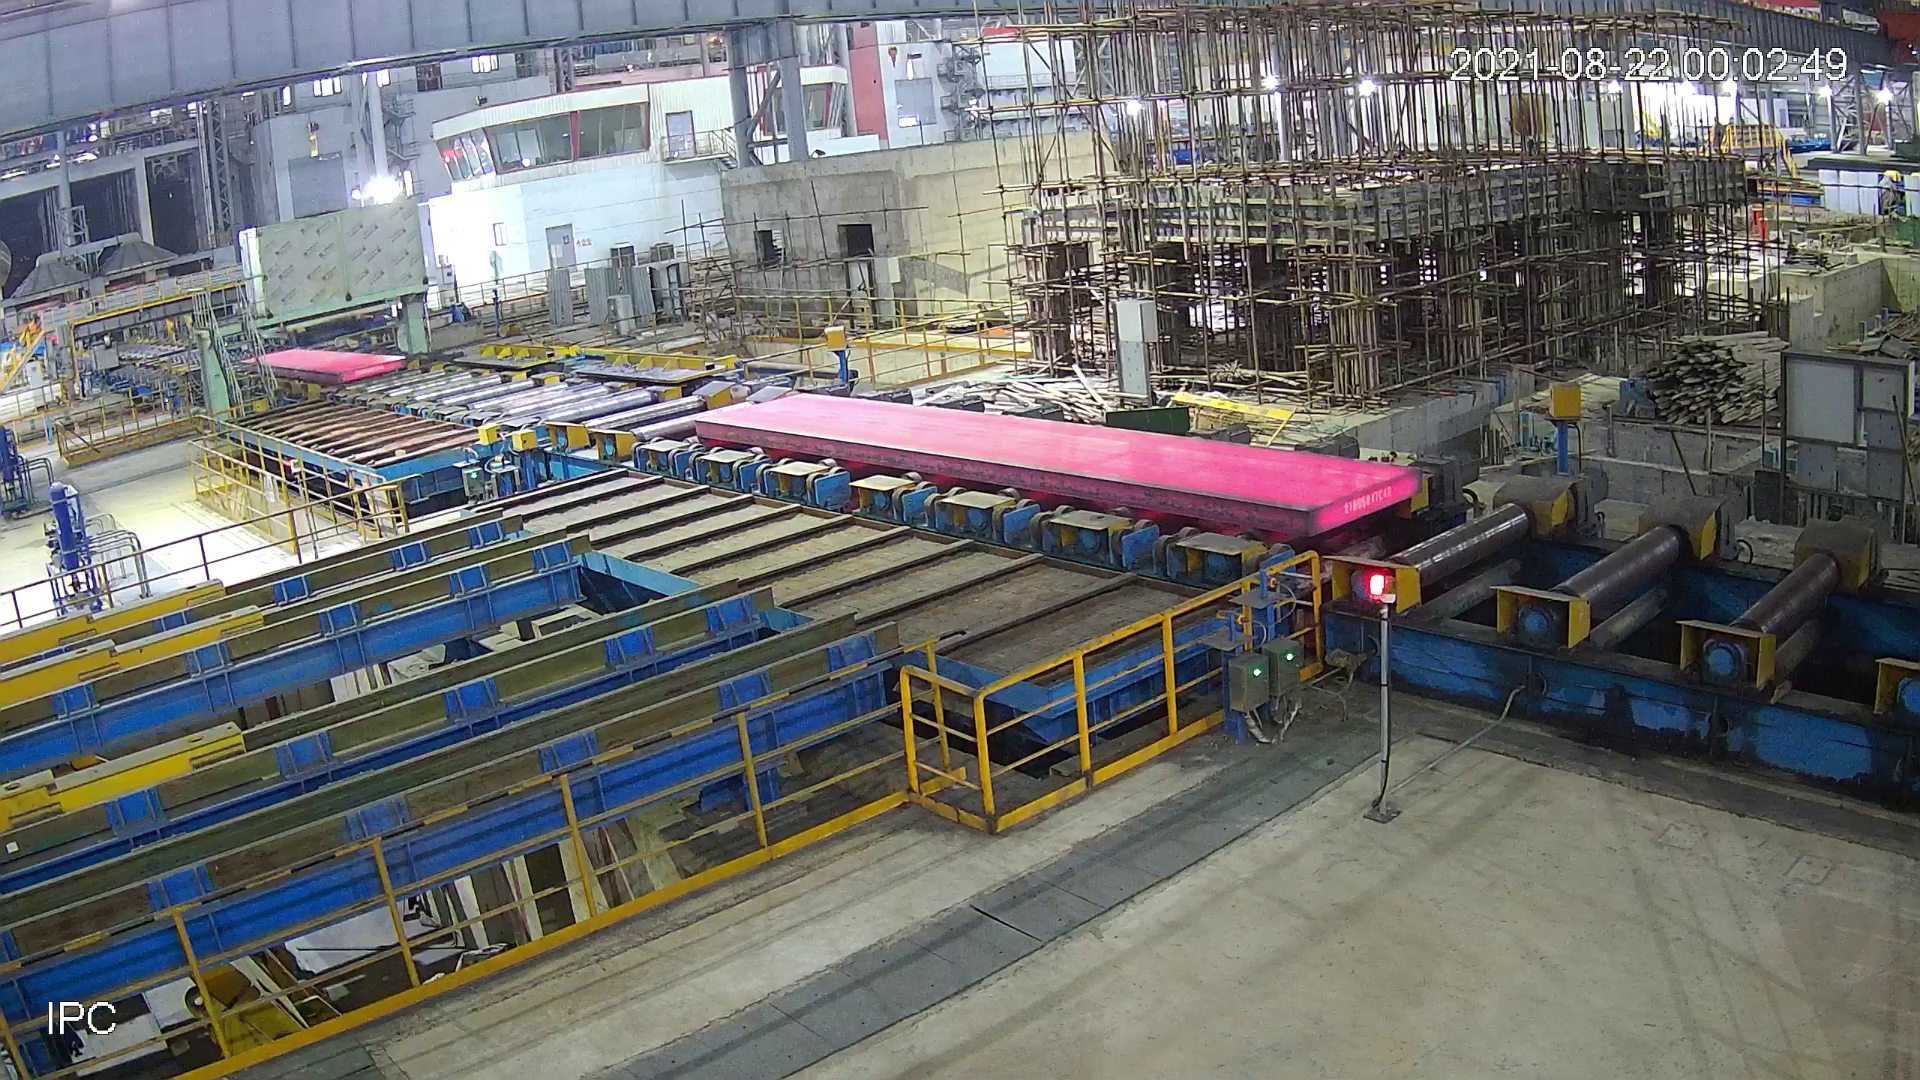slab: (691, 389, 1424, 538), (241, 339, 409, 392)
